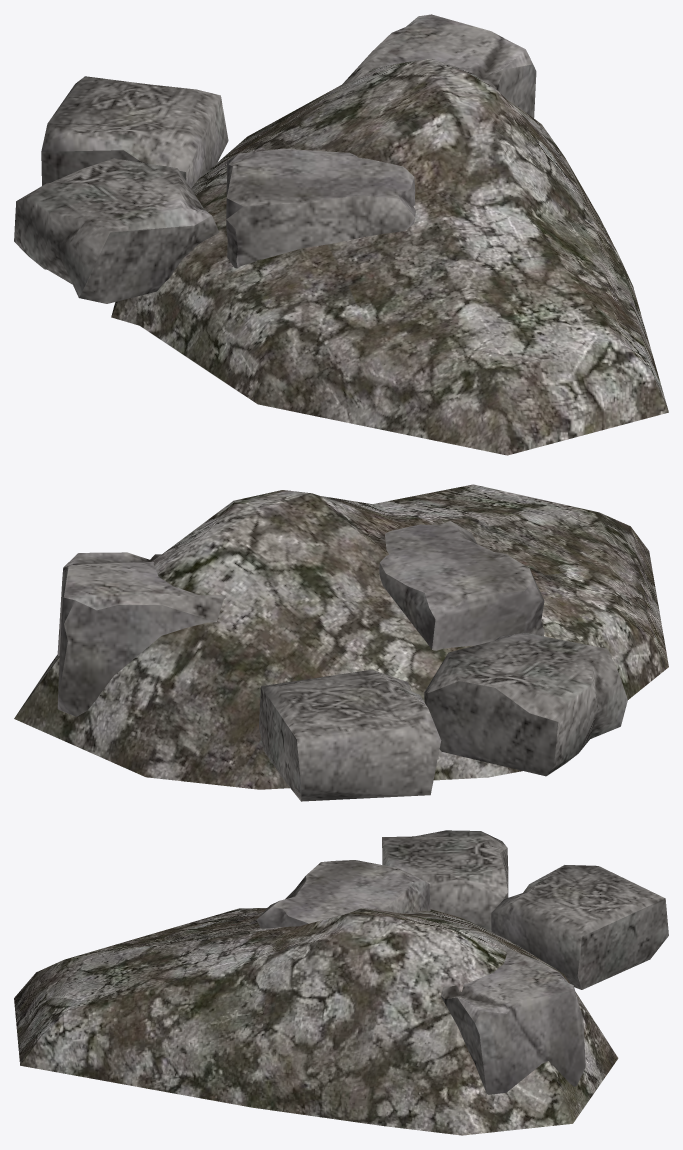
File: eso_ss1_ruins2-transformed.glb
The picture shows the model from 3 angles, top to bottom: view 1: azimuth 30°, elevation 25°; view 2: azimuth 150°, elevation 25°; view 3: azimuth 270°, elevation 25°; orthographic projection. The views are drawn at different scales.
Parts seen in each view (by area): view 1: default; view 2: default; view 3: default.
Part boxes in pixels (x1,y1,x2,y2): default: [14, 14, 668, 455]; default: [14, 484, 668, 801]; default: [14, 830, 668, 1135].
Size of the model in its own units: 6.05 by 1.85 by 7.63.
2 materials, 2 textured.
